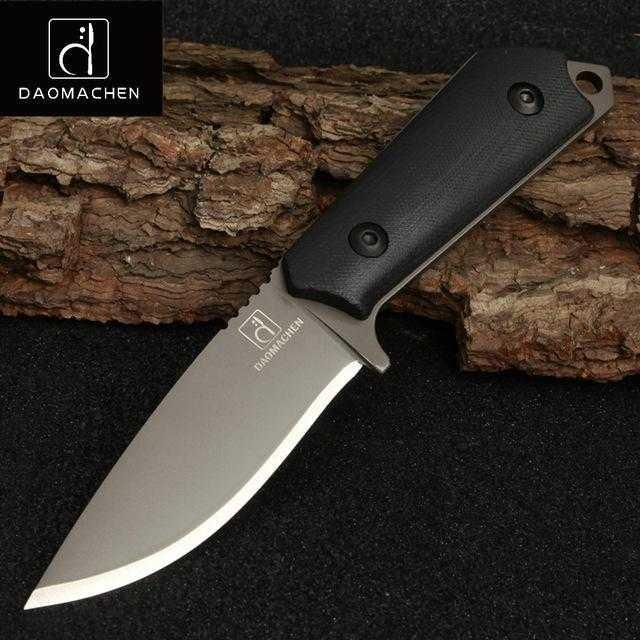Knife: (21, 46, 618, 618)
